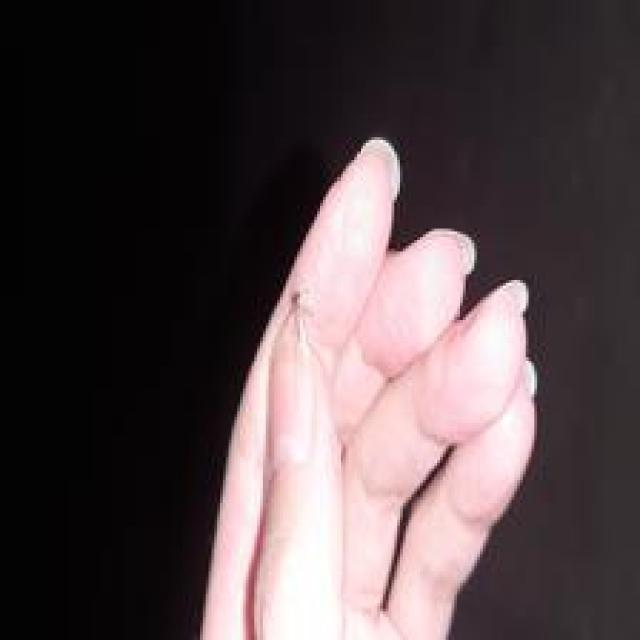Culex: (188, 134, 543, 640)
